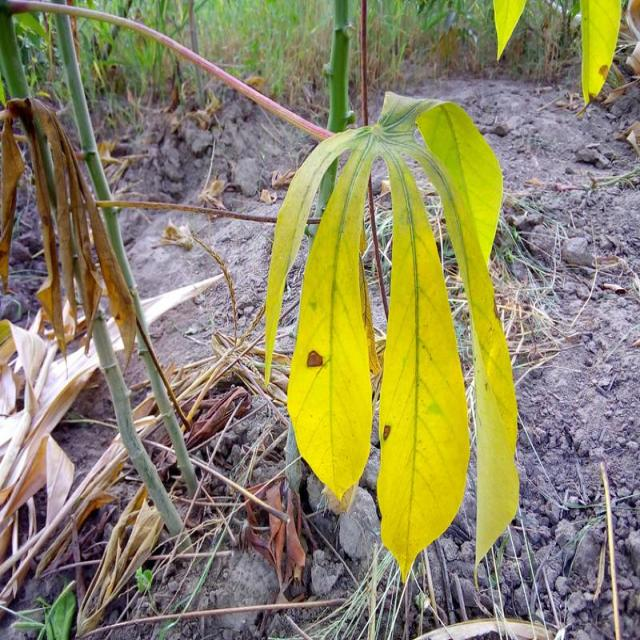cassava leaf: (263, 88, 519, 588), (414, 99, 520, 589), (376, 141, 470, 583), (286, 131, 375, 504)
